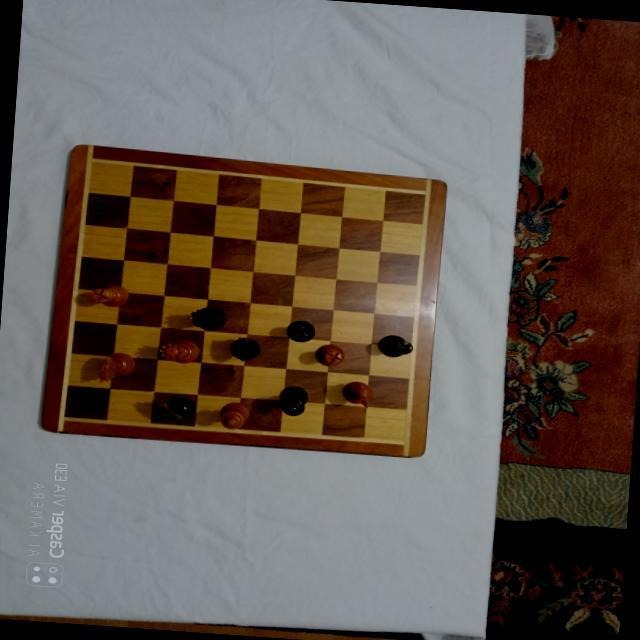black-king: (276, 386, 308, 418)
black-knight: (154, 394, 196, 425), (228, 336, 260, 364)
black-queen: (185, 304, 226, 331)
black-rook: (376, 334, 412, 358), (284, 319, 315, 343)
white-king: (217, 401, 249, 431)
white-knight: (97, 351, 135, 385), (340, 380, 372, 408)
white-queen: (156, 338, 200, 365)
white-rook: (87, 281, 129, 307), (313, 343, 344, 367)
